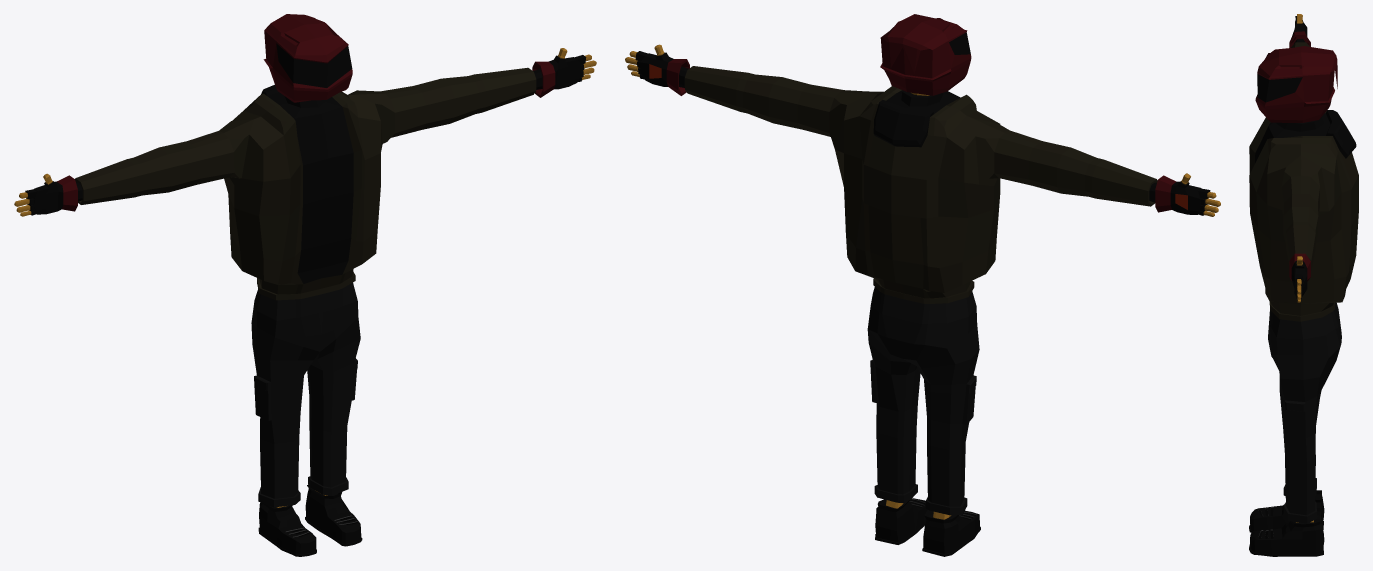
The model's file is jack.obj.
3 renders of one model, left to right at view 1: azimuth 30°, elevation 25°; view 2: azimuth 150°, elevation 25°; view 3: azimuth 270°, elevation 25°, orthographic. The views are drawn at different scales.
Visible parts, largest first — view 1: Cube; view 2: Cube; view 3: Cube.
Part boxes in pixels (bbox=[...]): Cube: bbox=[14, 14, 596, 556]; Cube: bbox=[625, 14, 1220, 556]; Cube: bbox=[1249, 14, 1358, 556].
Bounding box in the file's own units: 8.03 × 6.68 × 1.37.
